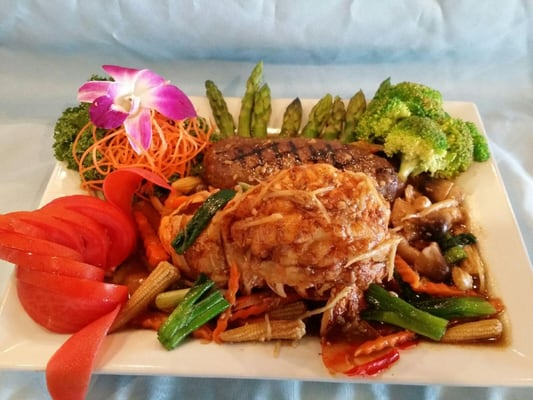curry: (352, 78, 489, 182)
